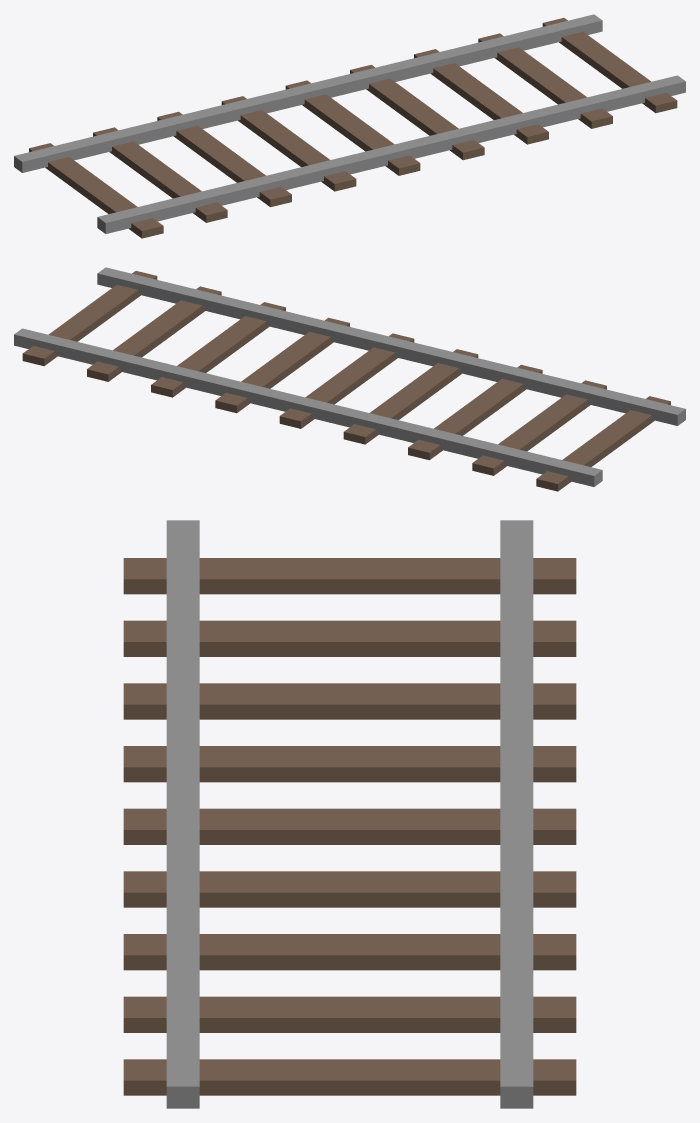
Rendered from Railway_3.fbx.
3 renders of one model, top to bottom at view 1: azimuth 30°, elevation 25°; view 2: azimuth 150°, elevation 25°; view 3: azimuth 270°, elevation 25°, orthographic. The views are drawn at different scales.
Parts seen in each view (by area): view 1: Railway_3; view 2: Railway_3; view 3: Railway_3.
Boxes of the visible parts, <box> form: Railway_3: <box>14,14,685,238</box>; Railway_3: <box>14,267,685,491</box>; Railway_3: <box>123,520,576,1108</box>.
Bounding box in the file's own units: 904 × 305 × 20.84.
